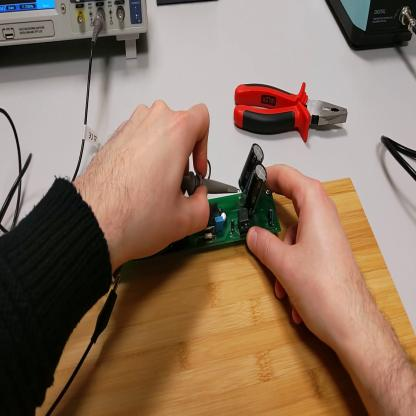hand: (248, 161, 365, 348), (92, 96, 212, 260)
high voltage board: (160, 144, 282, 256)
oscilloscope: (2, 2, 151, 63)
oscilloscope probe tip: (182, 173, 241, 195)
welder station: (327, 3, 416, 56)
working area: (38, 178, 415, 413)
